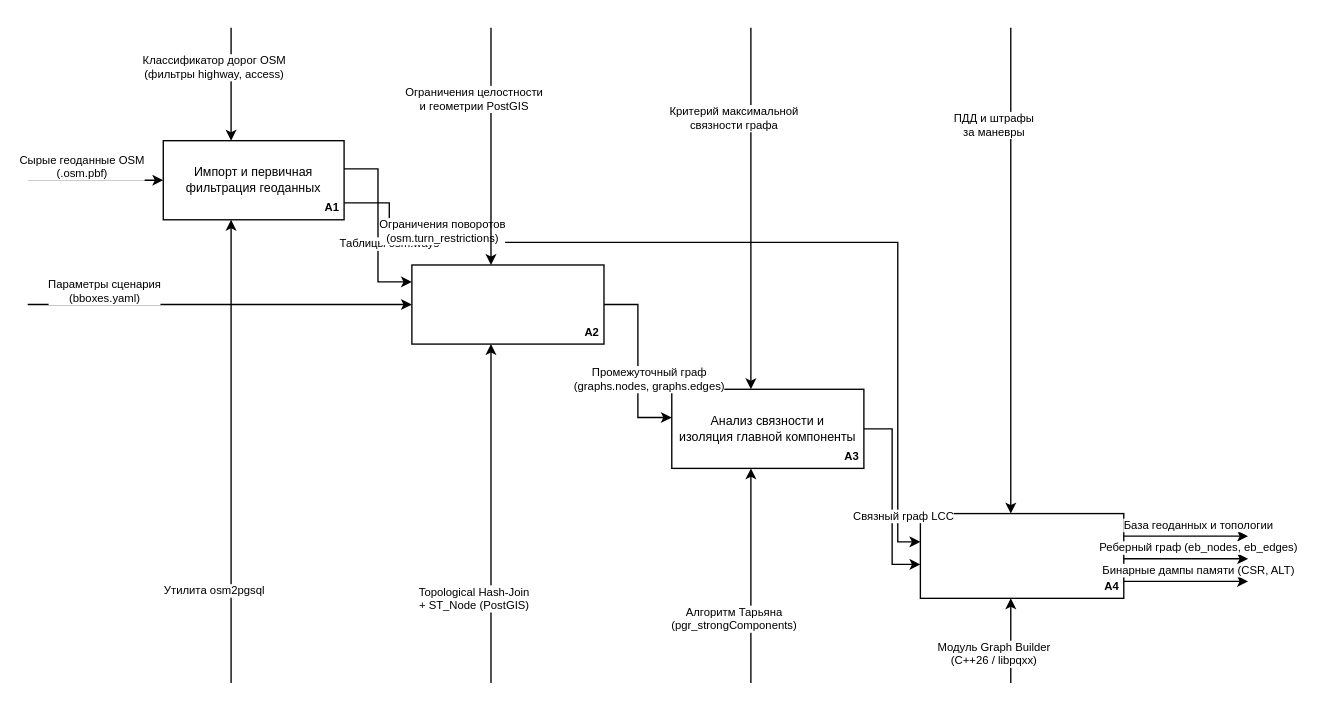
Image size: 1318x713. Some labels were removed from this diagram. Each missing label, with the centre of its shape:
Построение реберного графа (Line-Graph) и сериализация: point 1021,555
Пространственное нодирование и топологическая сшивка: point 507,304
